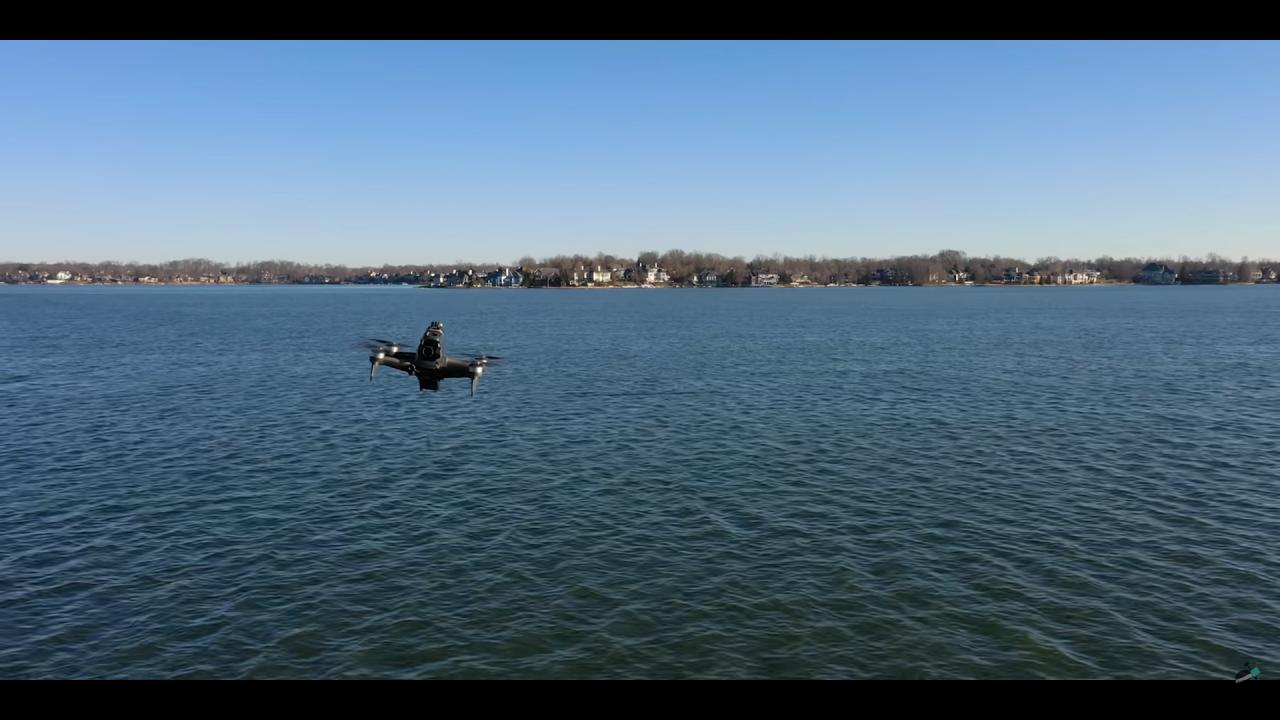Drone: (349, 312, 508, 408)
